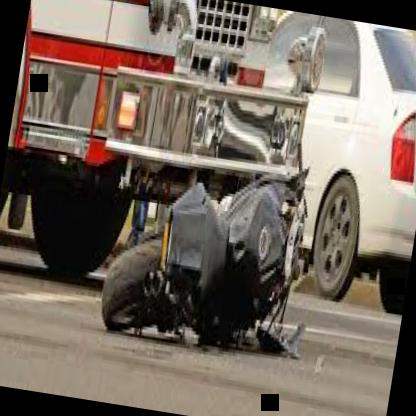accident: (78, 140, 334, 396)
